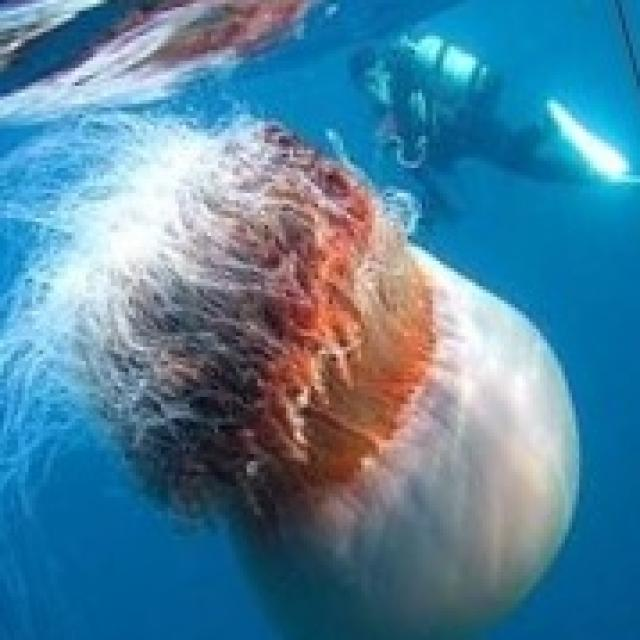Human: (39, 111, 583, 636)
